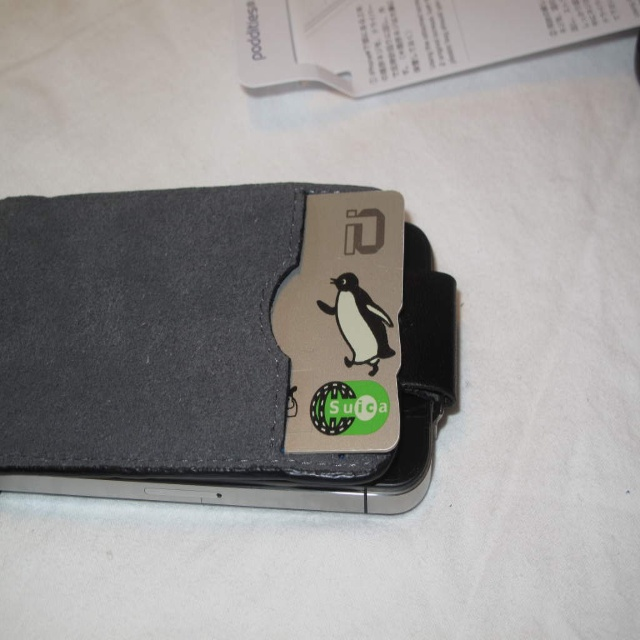Penguin: (316, 272, 396, 377)
